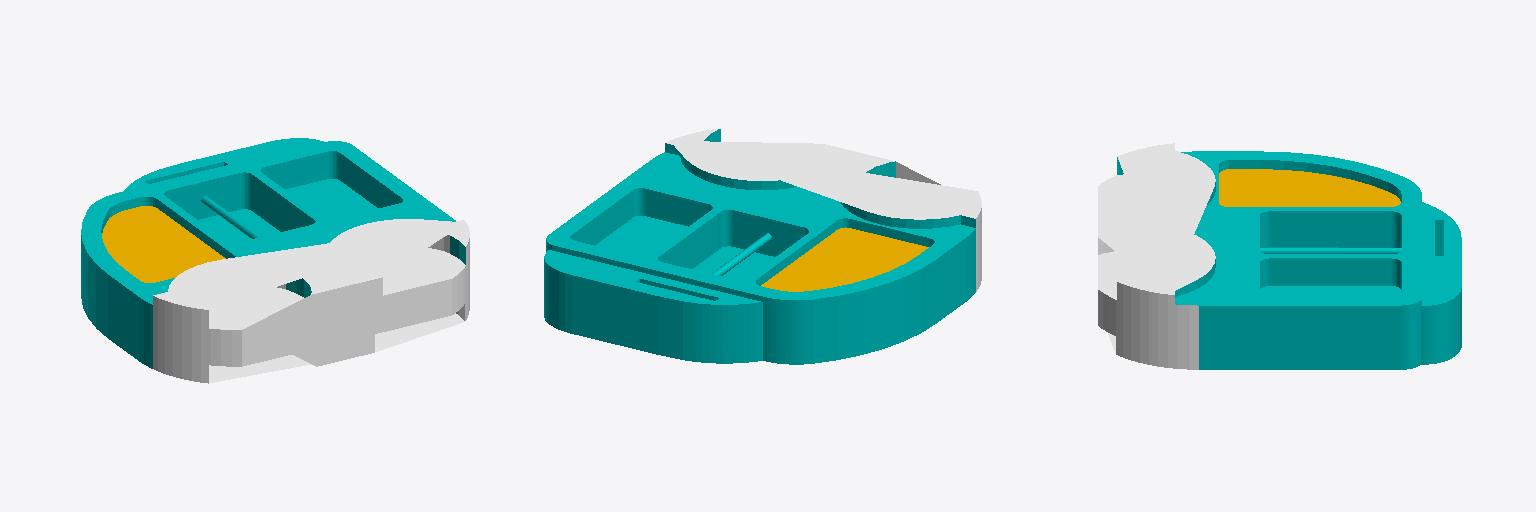
The model's file is carro_chassi.obj.
The picture shows the model from 3 angles: view 1: azimuth 30°, elevation 25°; view 2: azimuth 150°, elevation 25°; view 3: azimuth 270°, elevation 25°; orthographic projection.
Parts seen in each view (by area): view 1: chassi_Mesh26_Group26_Model; view 2: chassi_Mesh26_Group26_Model; view 3: chassi_Mesh26_Group26_Model.
Part boxes in pixels (x1,y1,x2,y2): chassi_Mesh26_Group26_Model: (81,138,469,383); chassi_Mesh26_Group26_Model: (544,128,981,364); chassi_Mesh26_Group26_Model: (1098,143,1461,369).
Bounding box in the file's own units: 180 × 40 × 180.